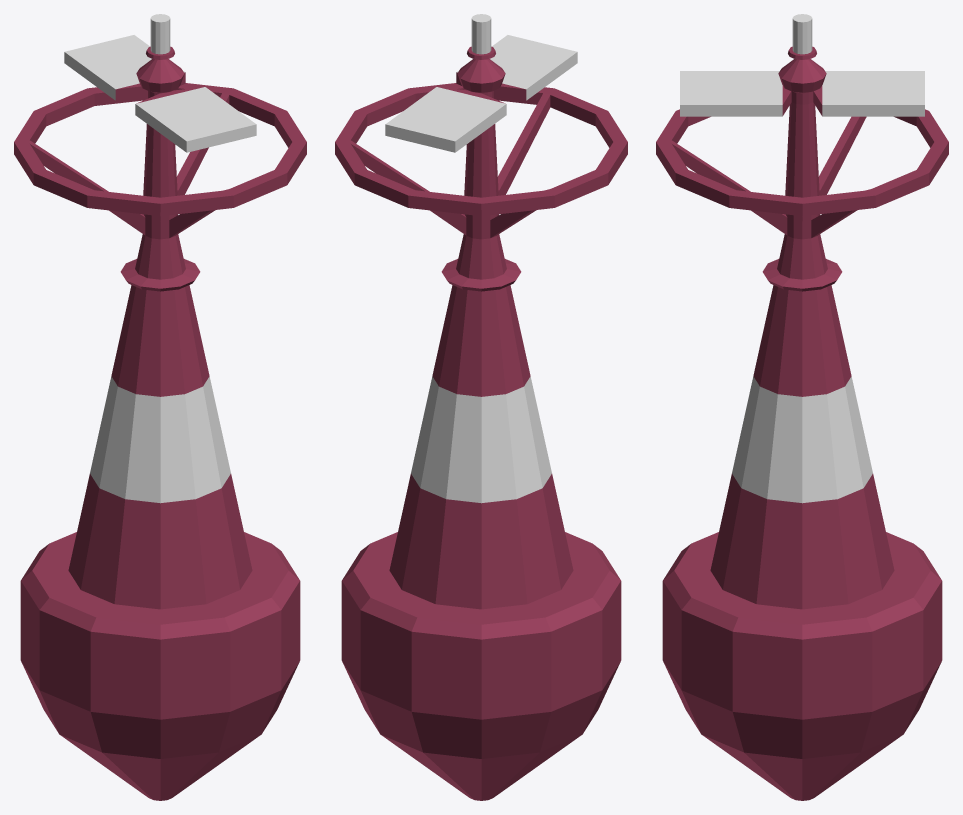
File: Buoy.fbx
3 views of the same model, side by side, from view 1: azimuth 30°, elevation 25°; view 2: azimuth 150°, elevation 25°; view 3: azimuth 270°, elevation 25° (orthographic).
Visible parts, largest first — view 1: Cylinder; view 2: Cylinder; view 3: Cylinder.
Part boxes in pixels (box(x1,y1,x2,y2)): Cylinder: box(14, 14, 306, 800); Cylinder: box(335, 14, 627, 800); Cylinder: box(656, 14, 948, 800).
Size of the model in its own units: 210 by 614 by 210.
